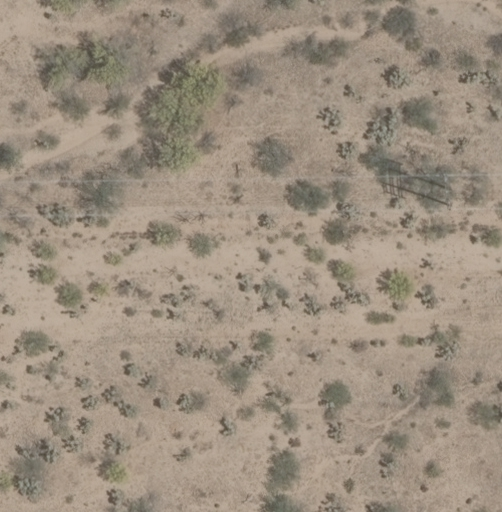TT: (374, 157, 451, 204)
